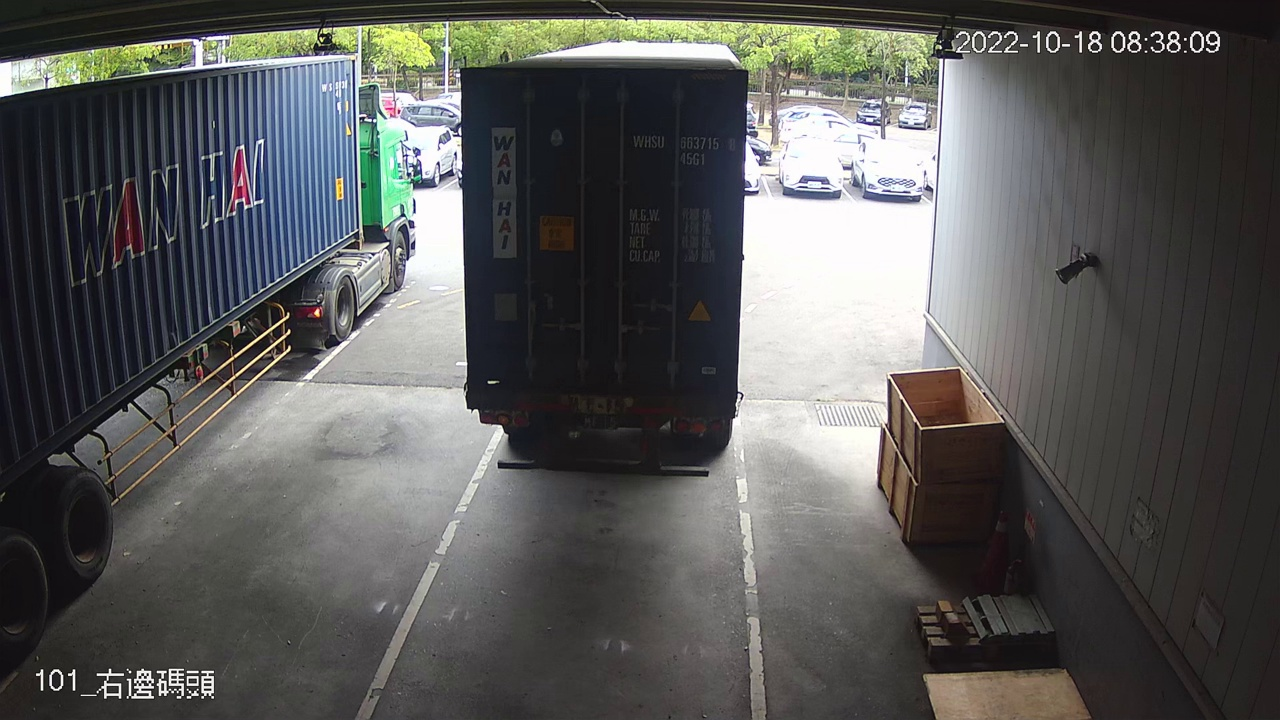container: (628, 128, 740, 172)
